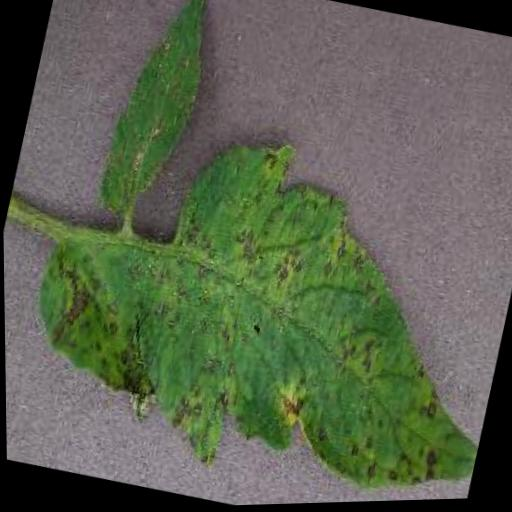Septoria: (6, 92, 512, 512)
